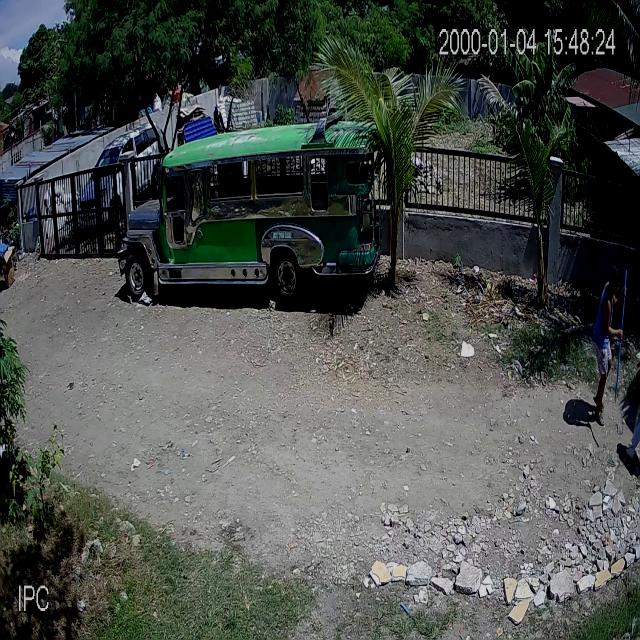running: (591, 265, 627, 425)
